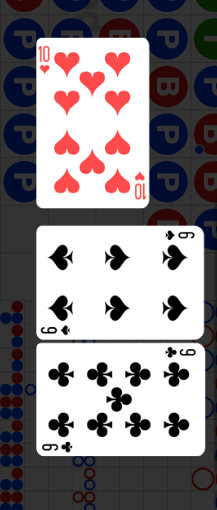10H: (39, 44, 53, 76)
6S: (163, 229, 196, 242)
9C: (41, 439, 75, 453)
